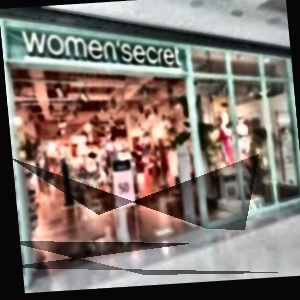women_secret: (179, 7, 196, 30)
